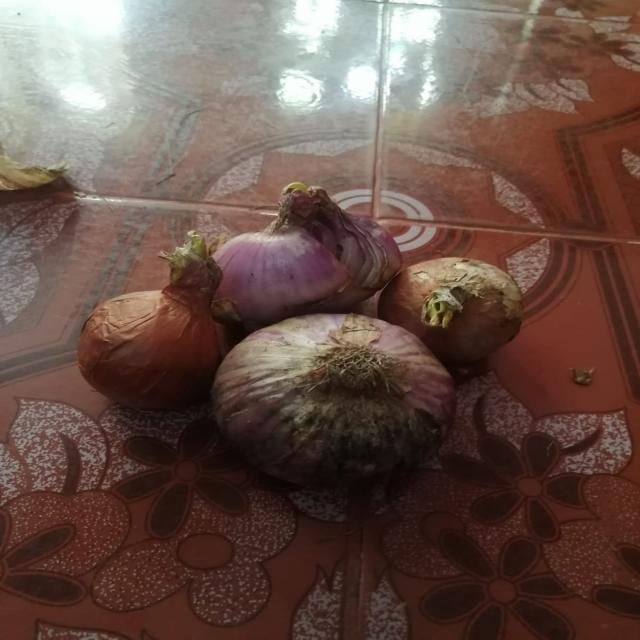rotten: (292, 406, 434, 469), (462, 260, 532, 318)
sprouting: (160, 234, 212, 286), (284, 183, 332, 218), (426, 289, 460, 332)
